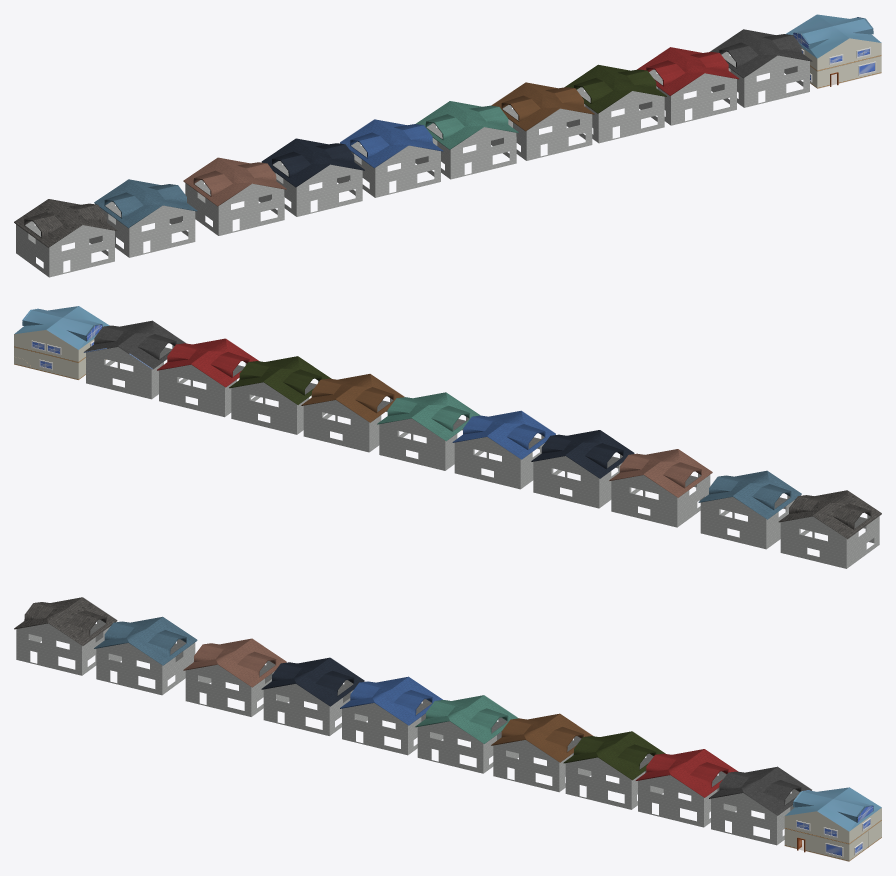
File: House_006_Variations.fbx
The picture shows the model from 3 angles, top to bottom: view 1: azimuth 30°, elevation 25°; view 2: azimuth 150°, elevation 25°; view 3: azimuth 330°, elevation 25°; orthographic projection.
Visible parts, largest first — view 1: House_006_V1_010, House_006_V1_08, House_006_V1_09, House_006_V1_07, House_006_V1_06, House_006_V1_04, House_006_V1_05, House_006_V1_01, House_006_V1_02, House_006_V1_03, House006_interior_01; view 2: House_006_V1_010, House_006_V1_08, House_006_V1_09, House_006_V1_06, House_006_V1_07, House_006_V1_04, House_006_V1_05, House_006_V1_01, House_006_V1_03, House_006_V1_02, House006_interior_01; view 3: House_006_V1_09, House006_interior_01, House_006_V1_010, House_006_V1_07, House_006_V1_08, House_006_V1_05, House_006_V1_06, House_006_V1_01, House_006_V1_02, House_006_V1_03, House_006_V1_04.
Boxes of the visible parts, x1=… form: House_006_V1_010: x1=14, y1=199, x2=117, y2=277; House_006_V1_08: x1=183, y1=157, x2=286, y2=235; House_006_V1_09: x1=94, y1=179, x2=197, y2=257; House_006_V1_07: x1=261, y1=138, x2=364, y2=216; House_006_V1_06: x1=340, y1=119, x2=443, y2=197; House_006_V1_04: x1=491, y1=82, x2=594, y2=160; House_006_V1_05: x1=416, y1=101, x2=518, y2=179; House_006_V1_01: x1=710, y1=29, x2=812, y2=107; House_006_V1_02: x1=637, y1=47, x2=739, y2=125; House_006_V1_03: x1=565, y1=64, x2=666, y2=143; House006_interior_01: x1=785, y1=14, x2=881, y2=88; House_006_V1_010: x1=778, y1=490, x2=881, y2=568; House_006_V1_08: x1=609, y1=449, x2=712, y2=527; House_006_V1_09: x1=698, y1=470, x2=801, y2=549; House_006_V1_06: x1=452, y1=410, x2=555, y2=489; House_006_V1_07: x1=531, y1=430, x2=634, y2=508; House_006_V1_04: x1=301, y1=374, x2=404, y2=452; House_006_V1_05: x1=377, y1=392, x2=480, y2=470; House_006_V1_01: x1=83, y1=320, x2=186, y2=399; House_006_V1_03: x1=229, y1=356, x2=331, y2=434; House_006_V1_02: x1=157, y1=338, x2=259, y2=417; House006_interior_01: x1=14, y1=306, x2=109, y2=379; House_006_V1_09: x1=94, y1=616, x2=197, y2=695; House006_interior_01: x1=784, y1=787, x2=881, y2=861; House_006_V1_010: x1=14, y1=597, x2=117, y2=675; House_006_V1_07: x1=261, y1=657, x2=364, y2=735; House_006_V1_08: x1=183, y1=638, x2=286, y2=716; House_006_V1_05: x1=415, y1=695, x2=518, y2=773; House_006_V1_06: x1=340, y1=676, x2=442, y2=755; House_006_V1_01: x1=709, y1=766, x2=811, y2=845; House_006_V1_02: x1=635, y1=749, x2=737, y2=827; House_006_V1_03: x1=563, y1=731, x2=665, y2=809; House_006_V1_04: x1=491, y1=713, x2=593, y2=792.
Bounding box in the file's own units: 851 × 44.81 × 60.58.
